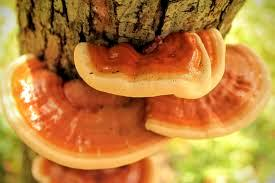Ganoderma - Fruit Body: (2, 25, 266, 171)
